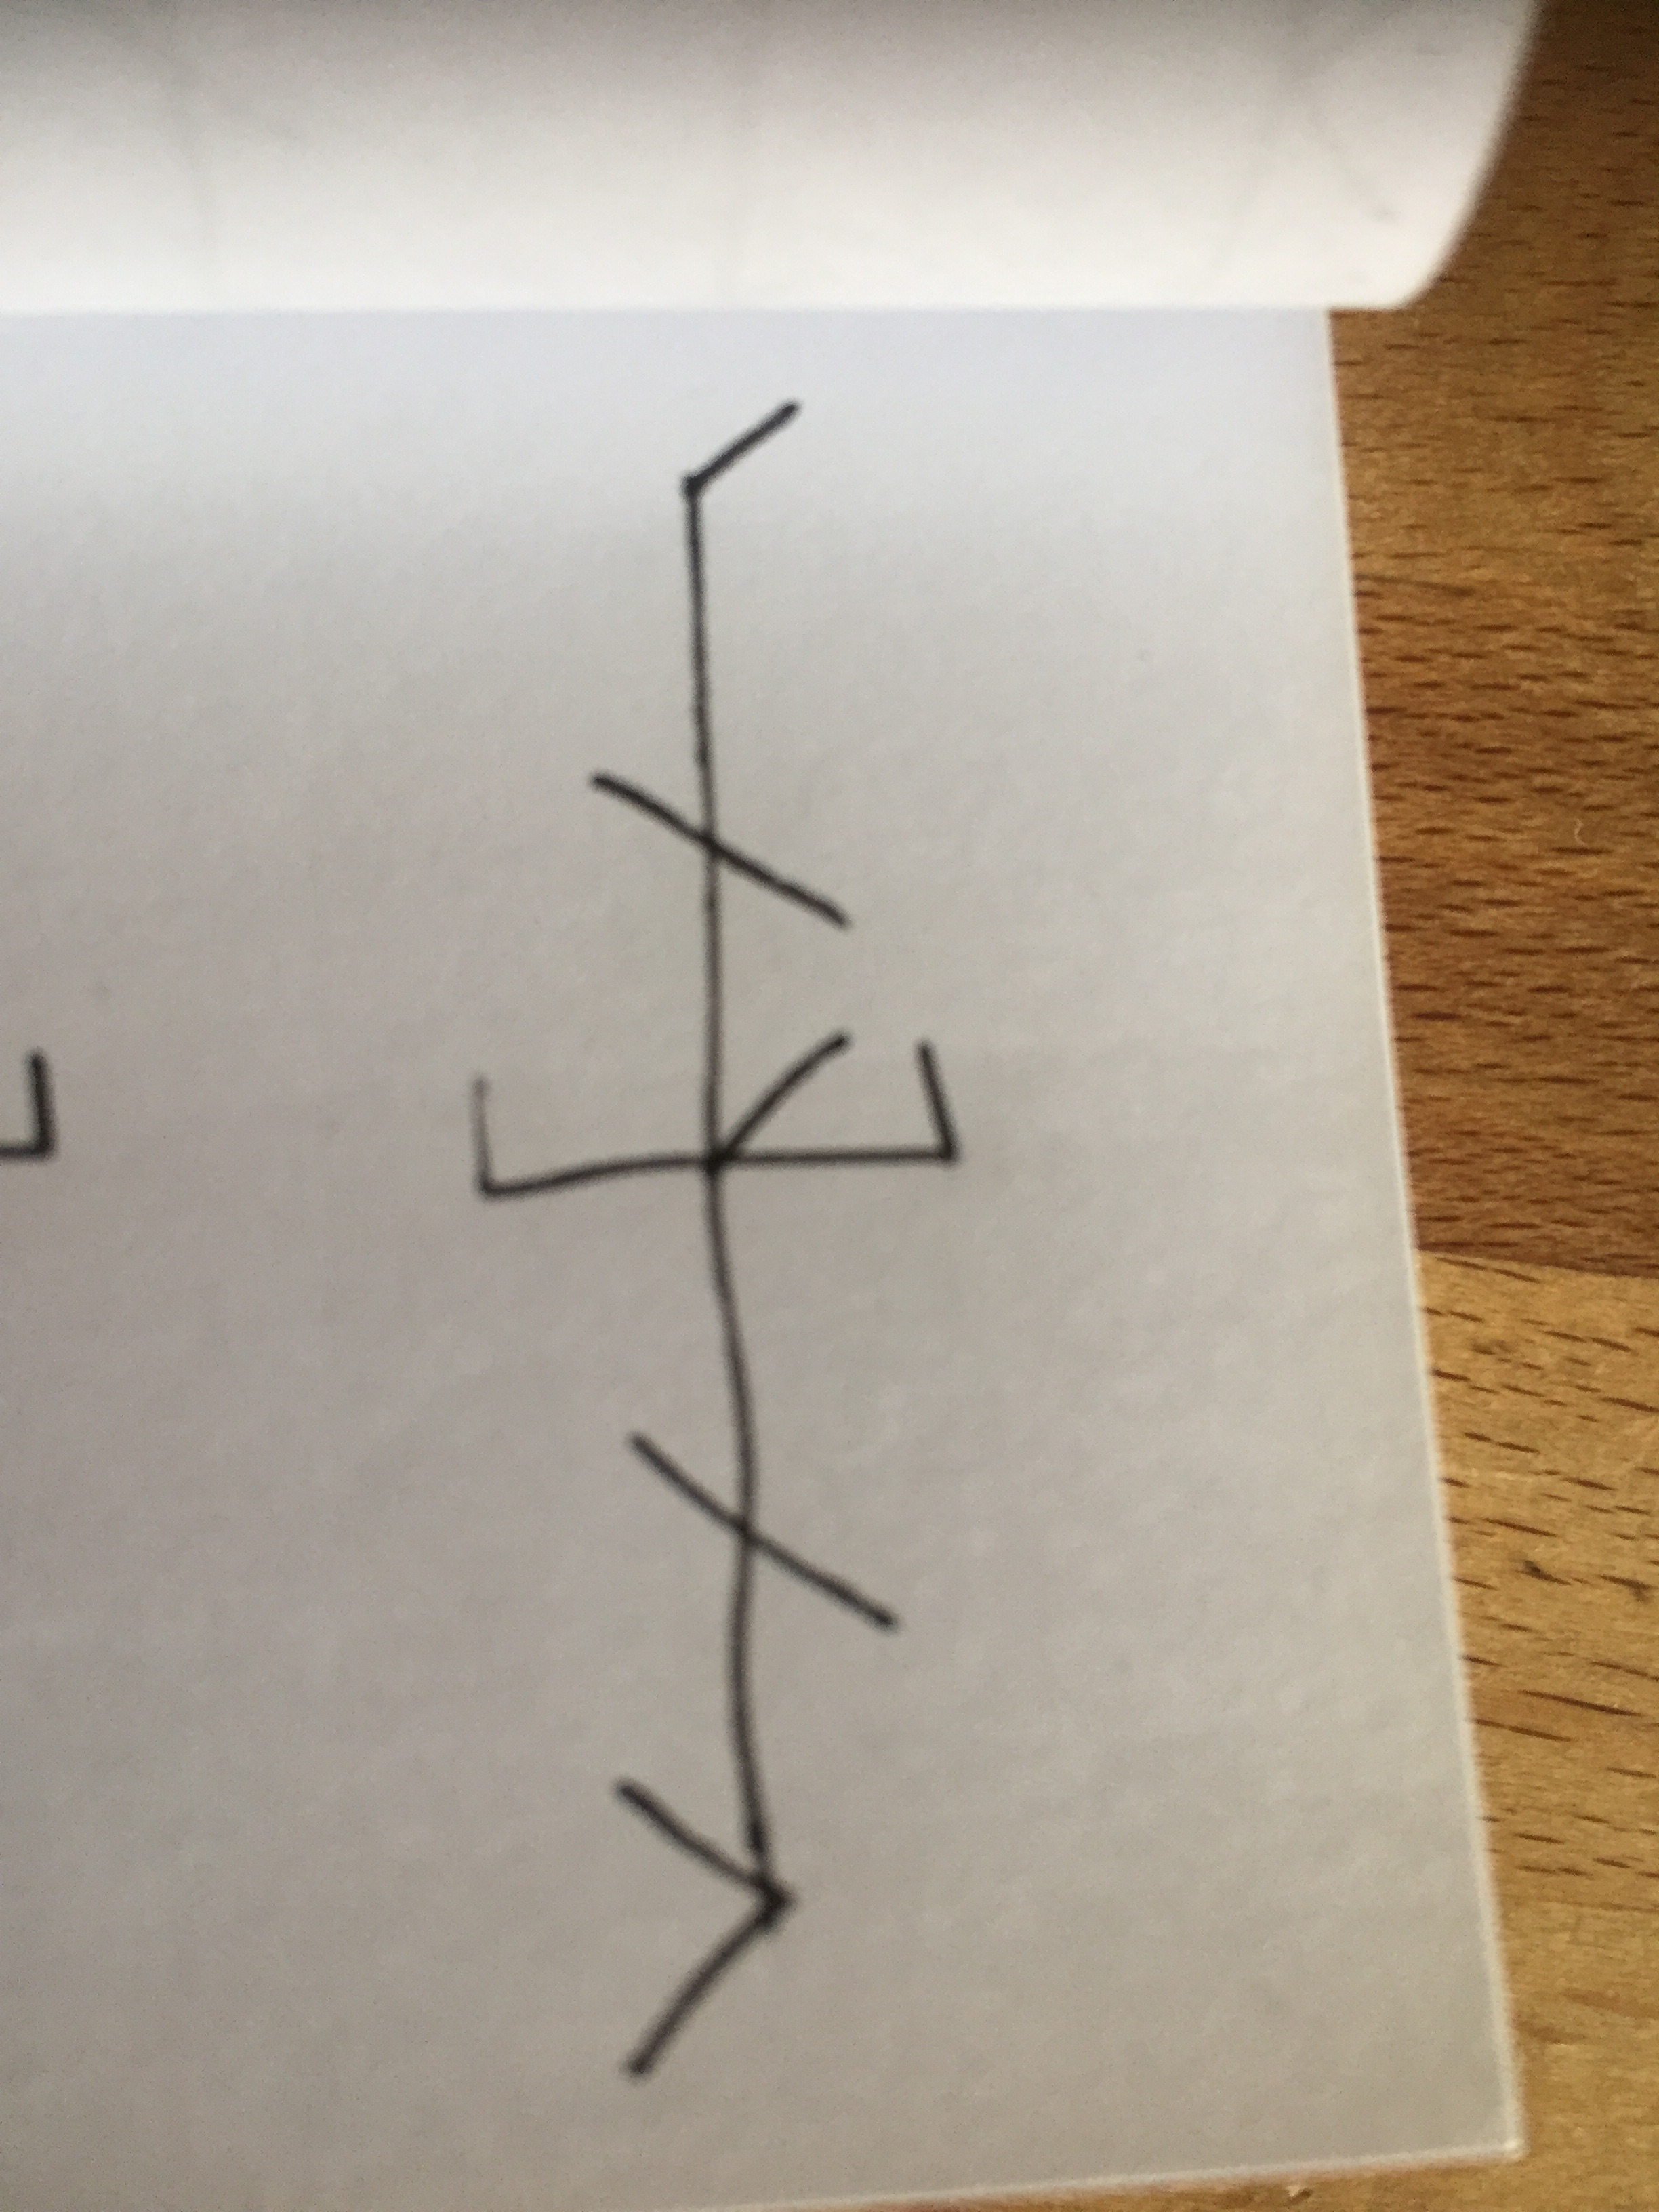Bar: (586, 404, 904, 2078)
Barcode: (469, 401, 965, 2080)
End: (861, 1038, 962, 1179)
Start: (467, 1071, 697, 1202)
